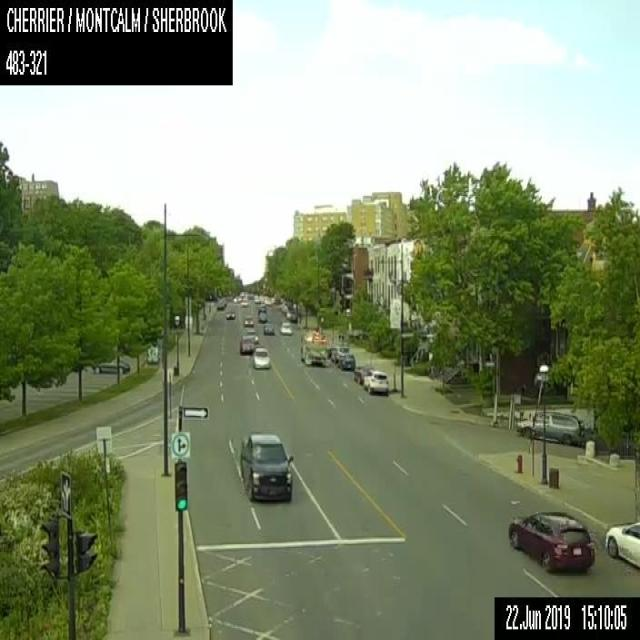vehicle: (506, 508, 596, 573), (237, 431, 295, 500), (514, 409, 582, 444), (604, 519, 639, 569), (300, 329, 328, 365), (363, 369, 389, 394), (91, 359, 129, 372), (352, 364, 373, 384), (253, 346, 269, 369), (329, 345, 348, 363), (239, 333, 254, 354), (338, 353, 354, 370), (278, 321, 292, 333), (246, 329, 257, 342), (263, 322, 273, 335), (225, 308, 235, 319), (243, 315, 253, 325), (216, 299, 224, 309), (258, 311, 266, 321), (240, 296, 247, 306), (233, 294, 240, 302)
